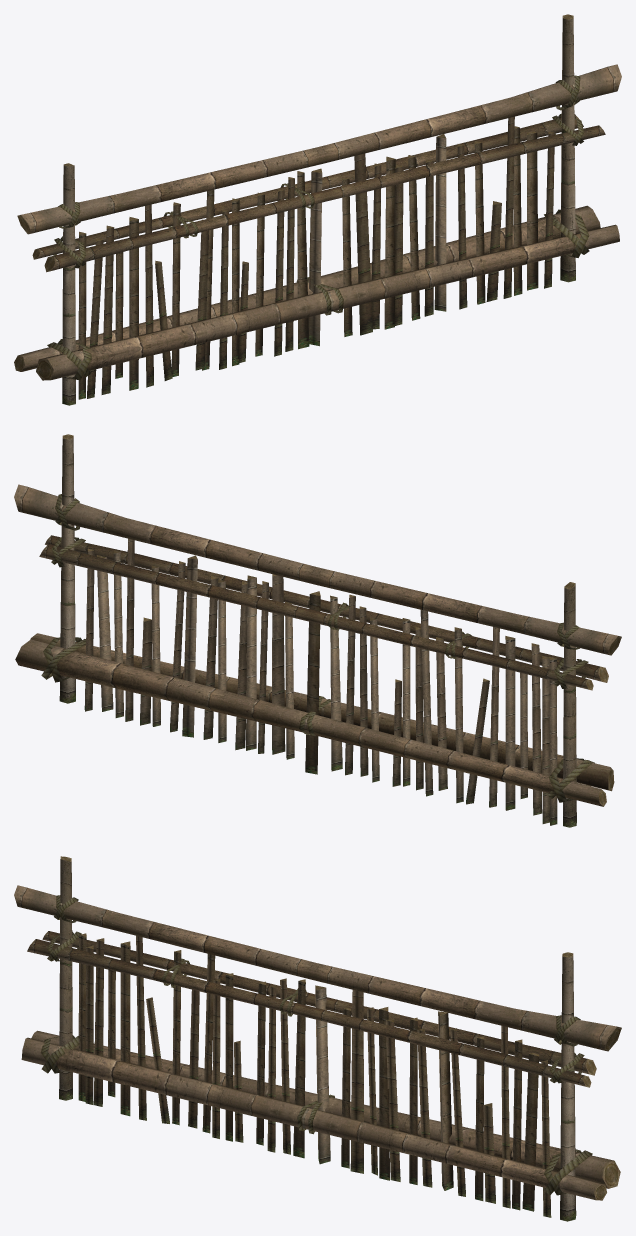
File: MainCity_ZhaLan_03.fbx
3 views of the same model, one above another, from view 1: azimuth 30°, elevation 25°; view 2: azimuth 150°, elevation 25°; view 3: azimuth 330°, elevation 25° (orthographic).
Parts seen in each view (by area): view 1: MainCity_ZhaLan_03; view 2: MainCity_ZhaLan_03; view 3: MainCity_ZhaLan_03.
Boxes of the visible parts, x1,y1,x2,y2 form: MainCity_ZhaLan_03: (14,14,621,405); MainCity_ZhaLan_03: (14,434,621,827); MainCity_ZhaLan_03: (14,856,621,1221).
Size of the model in its own units: 553 by 239 by 52.89.
1 material, 1 textured.
